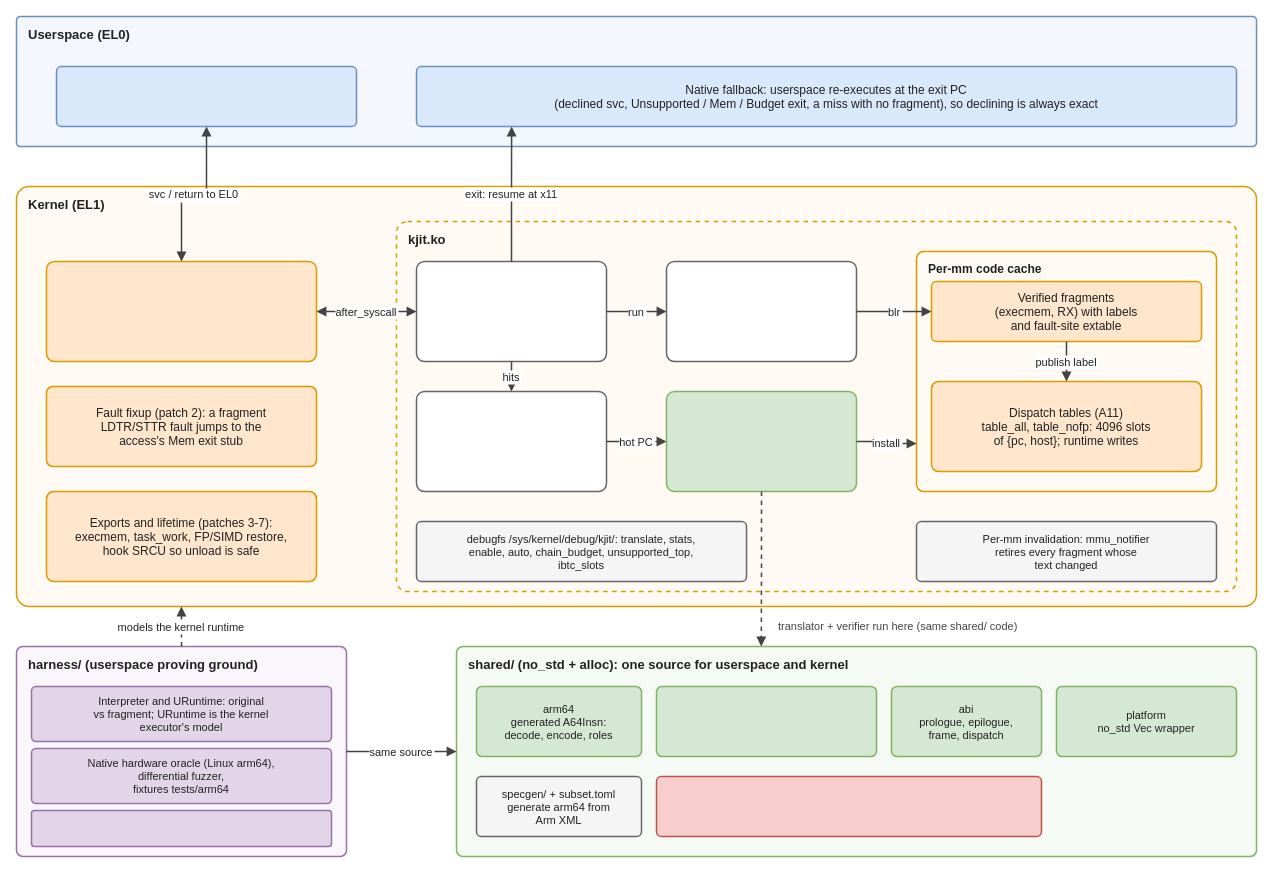
Image size: 1273x873. Some labels were removed from this diagram. The centre of each missing label's shape, as x and y in pixels:
"Call trampoline kjit_call_fragment; FP/SIMD bracket (BH and faults off)" goes at (x=761, y=311).
"Code cache: mirror of the dispatch tables" goes at (x=181, y=828).
"K3 profiler (auto mode) hot-PC table per mm, negative cache, caps" goes at (x=511, y=441).
"Patched Linux 7.1-rc1 syscall-return hook in el0_svc_common (patch 1)" goes at (x=181, y=311).
"Runtime runtime/exec.rs: exit decisions, chaining, run conditions" goes at (x=511, y=311).
"trans: cfg, rephrase, reg_virt emit: layout and encode (the translator)" goes at (x=766, y=721).
"Translate + install compile_request, verify_fragment, install gate" goes at (x=761, y=441).
"User process (unmodified AArch64 binary; its hot loop issues svc)" goes at (x=206, y=96).
"verify (V3): independent of the translator; imports only abi, arm64, platform" goes at (x=848, y=806).
